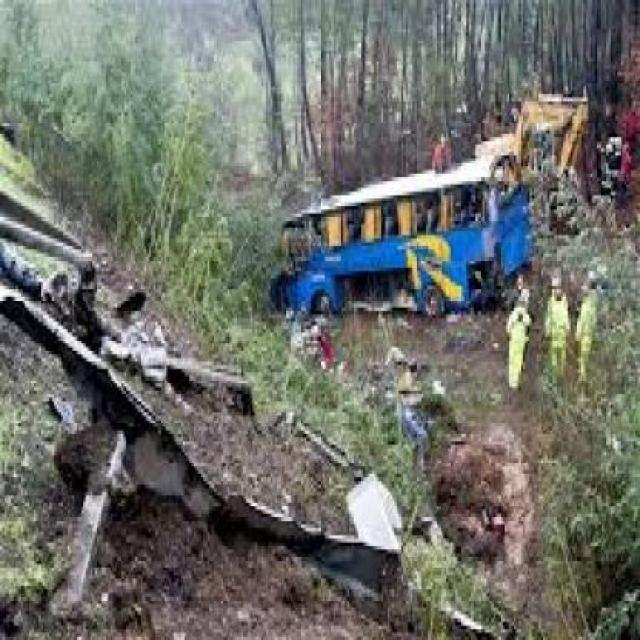accident: (264, 149, 538, 322)
